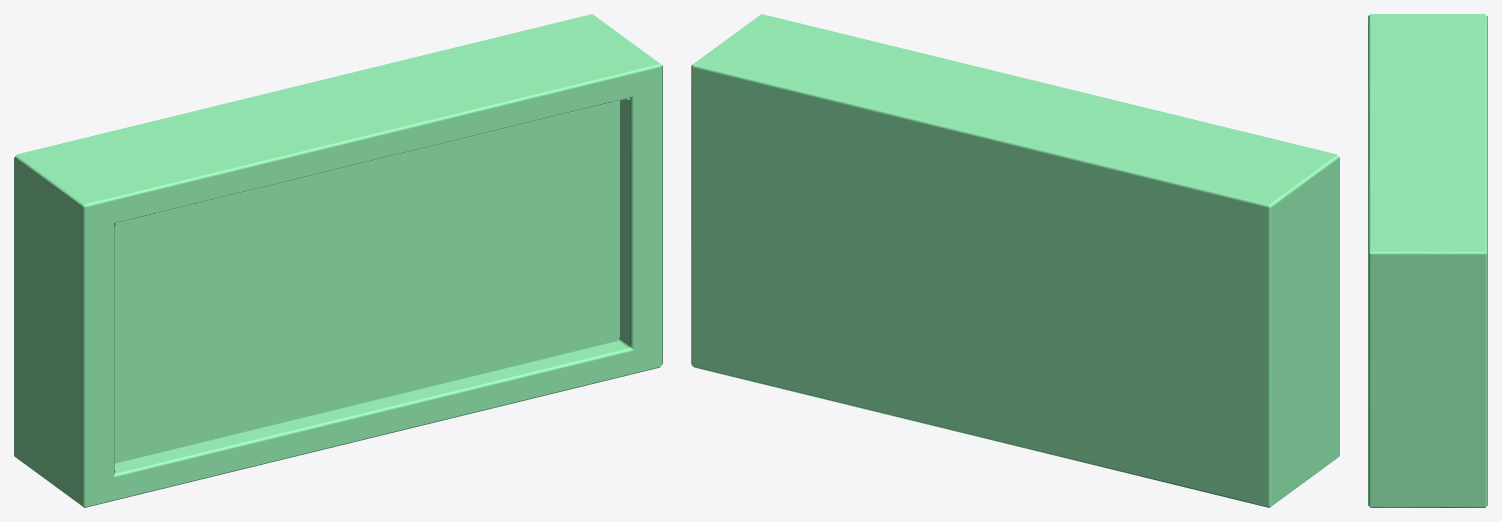
File: exit_sign.fbx
The picture shows the model from 3 angles, left to right: view 1: azimuth 30°, elevation 25°; view 2: azimuth 150°, elevation 25°; view 3: azimuth 270°, elevation 25°; orthographic projection. The views are drawn at different scales.
Visible parts, largest first — view 1: exit_sign; view 2: exit_sign; view 3: exit_sign.
Part boxes in pixels (<box>): exit_sign: <box>14,14,662,507</box>; exit_sign: <box>691,14,1339,507</box>; exit_sign: <box>1368,14,1487,507</box>.
Bounding box in the file's own units: 20 × 10 × 4.23.
